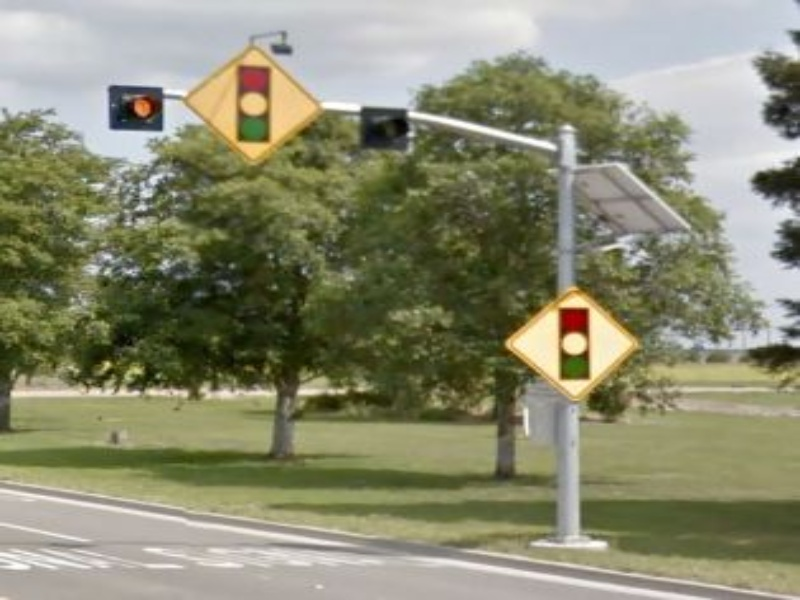traffic signal sign: (180, 43, 326, 170), (502, 284, 643, 402)
